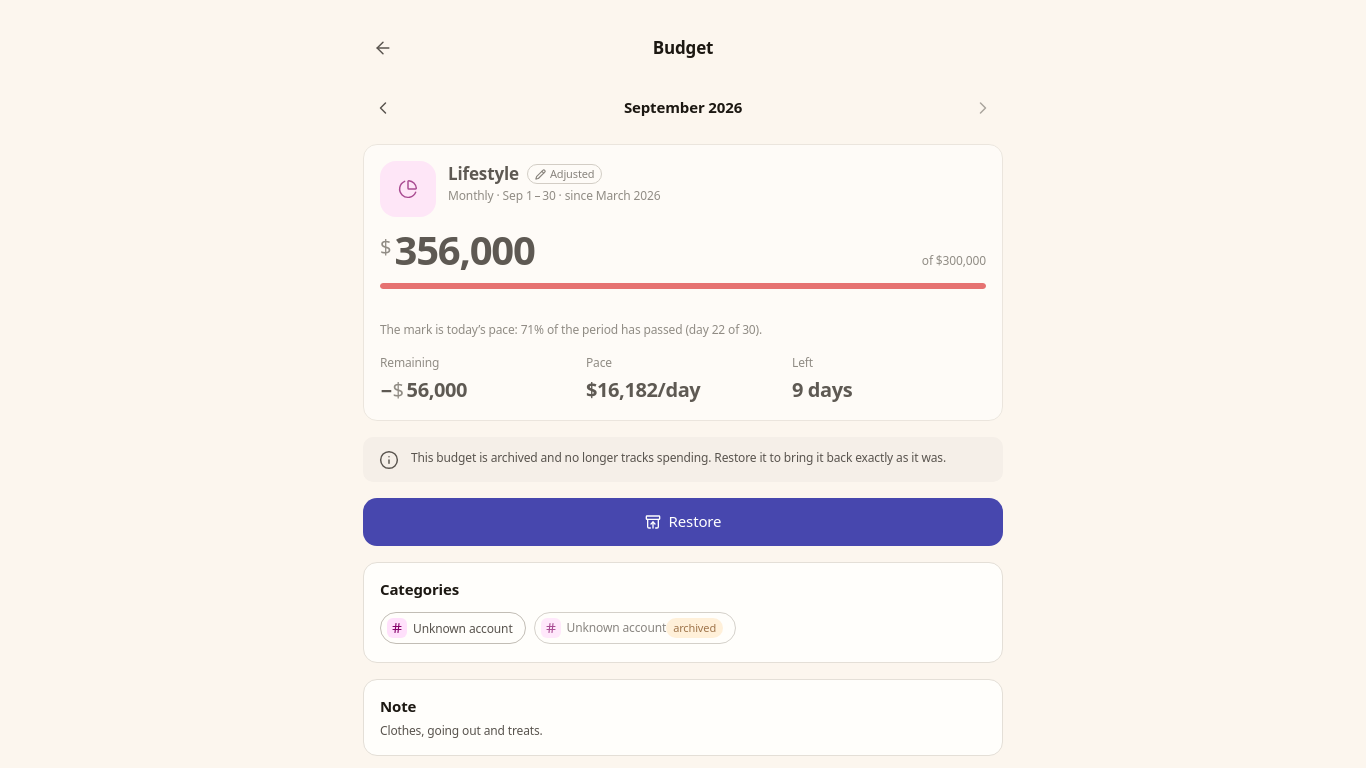
Scenario: BudgetDetailScreen › refuses an overlapping restore and names the budget in the way
Step 1. Click the button named "Restore" → (683,522), box [363,498,1003,546]
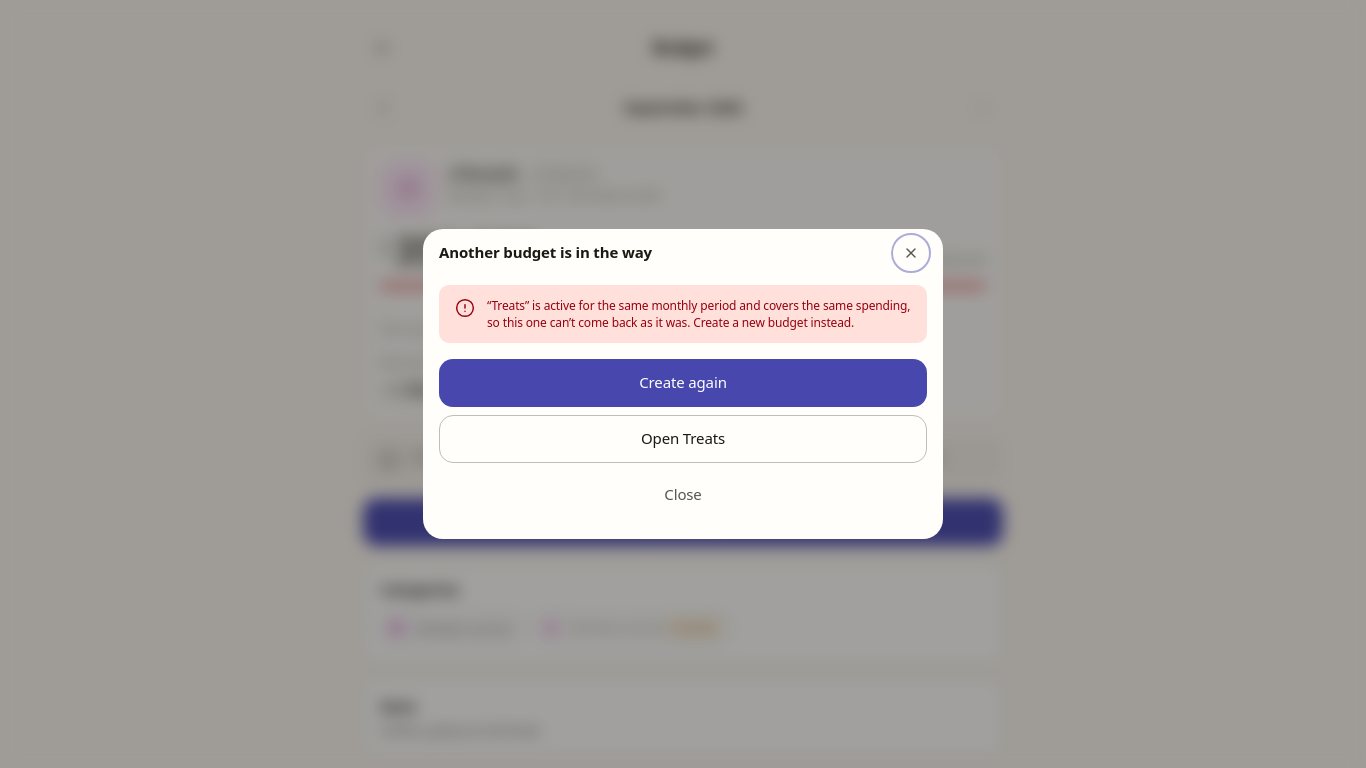
Check: the dialog "Another budget is in the way" shows "“Treats” is active for the same monthly period", box [487,297,910,331]
